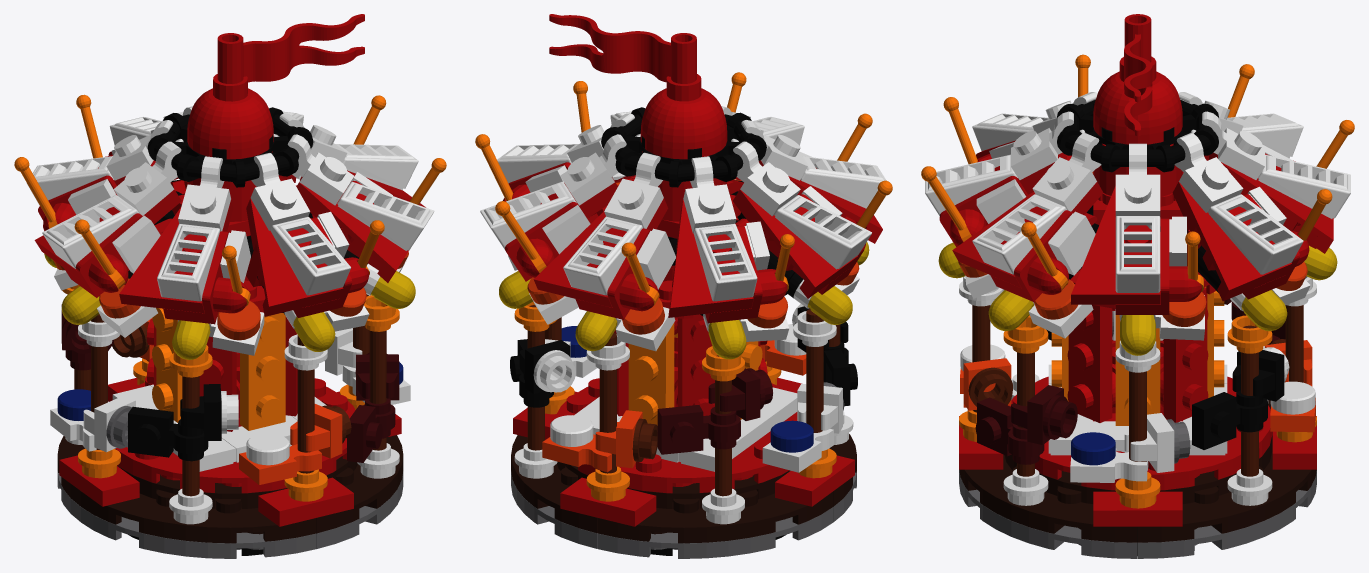
The model's file is funfairmini.FBX.
3 views of the same model, side by side, from view 1: azimuth 30°, elevation 25°; view 2: azimuth 150°, elevation 25°; view 3: azimuth 270°, elevation 25° (orthographic). The views are drawn at different scales.
Parts seen in each view (by area): view 1: Part_11213.35; view 2: Part_11213.35; view 3: Part_11213.35.
Part boxes in pixels (bbox=[...]): Part_11213.35: bbox=[14, 14, 446, 558]; Part_11213.35: bbox=[475, 14, 892, 558]; Part_11213.35: bbox=[921, 14, 1354, 558].
Bounding box in the file's own units: 3.05 × 3.72 × 3.05.
